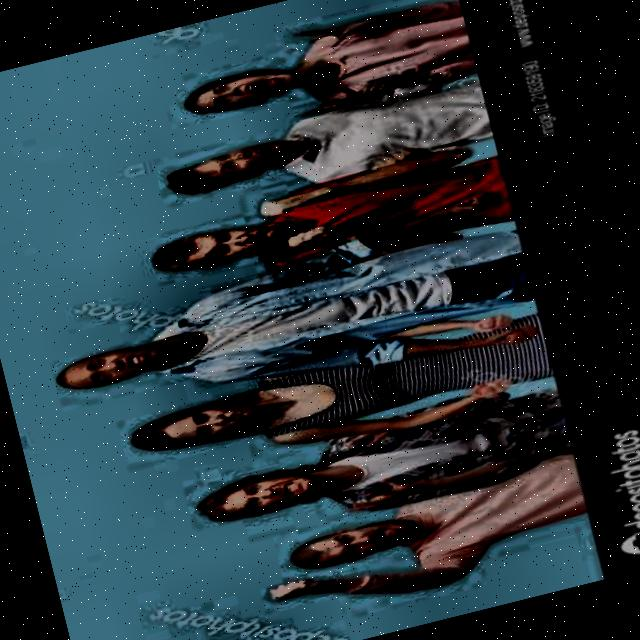angry: (133, 202, 294, 289), (152, 125, 312, 210), (115, 379, 268, 467), (39, 325, 190, 404), (161, 52, 308, 128), (191, 457, 337, 533), (283, 506, 429, 580)
